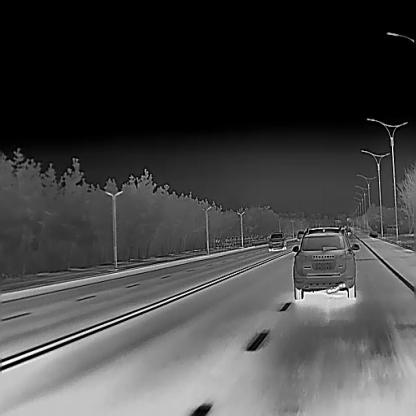car: (292, 225, 359, 298), (267, 232, 286, 250), (296, 229, 303, 240), (347, 229, 350, 235)
